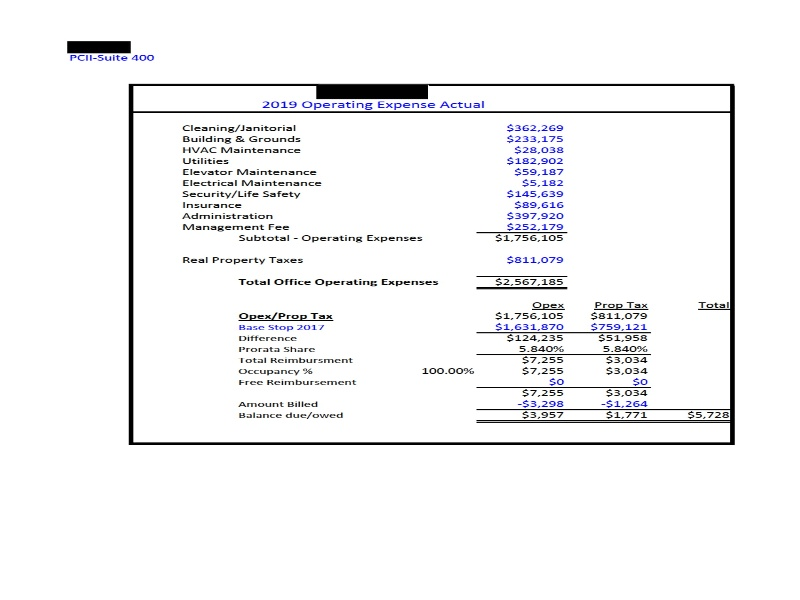table: (176, 118, 573, 296), (229, 301, 736, 434)
